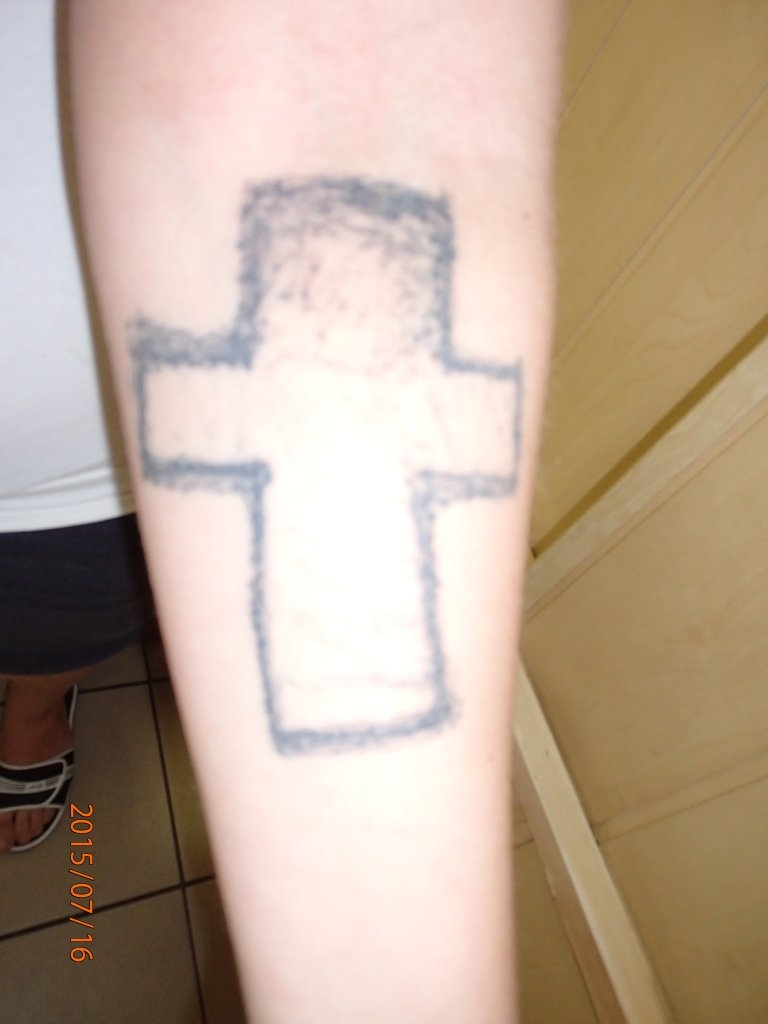tatu9_krest: (103, 165, 551, 764)
